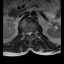CCS_normal: (29, 30, 30, 38)
LFS_stenosis: (32, 30, 34, 35)
LLS_stenosis: (30, 30, 32, 35)
RFS_stenosis: (25, 31, 27, 35)
RLS_normal: (27, 30, 29, 36)
